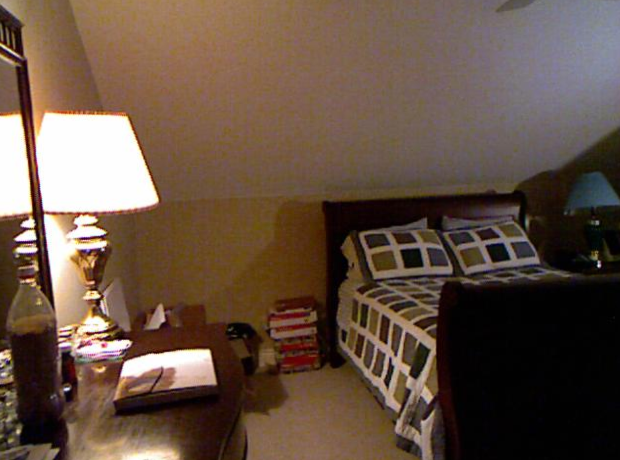table: (0, 321, 247, 459)
